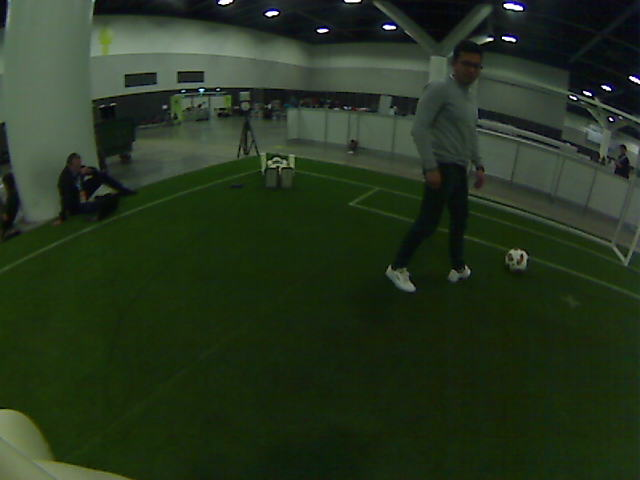ball: (496, 236, 536, 276)
goalpost: (610, 204, 640, 264)
robot: (264, 144, 293, 188)
